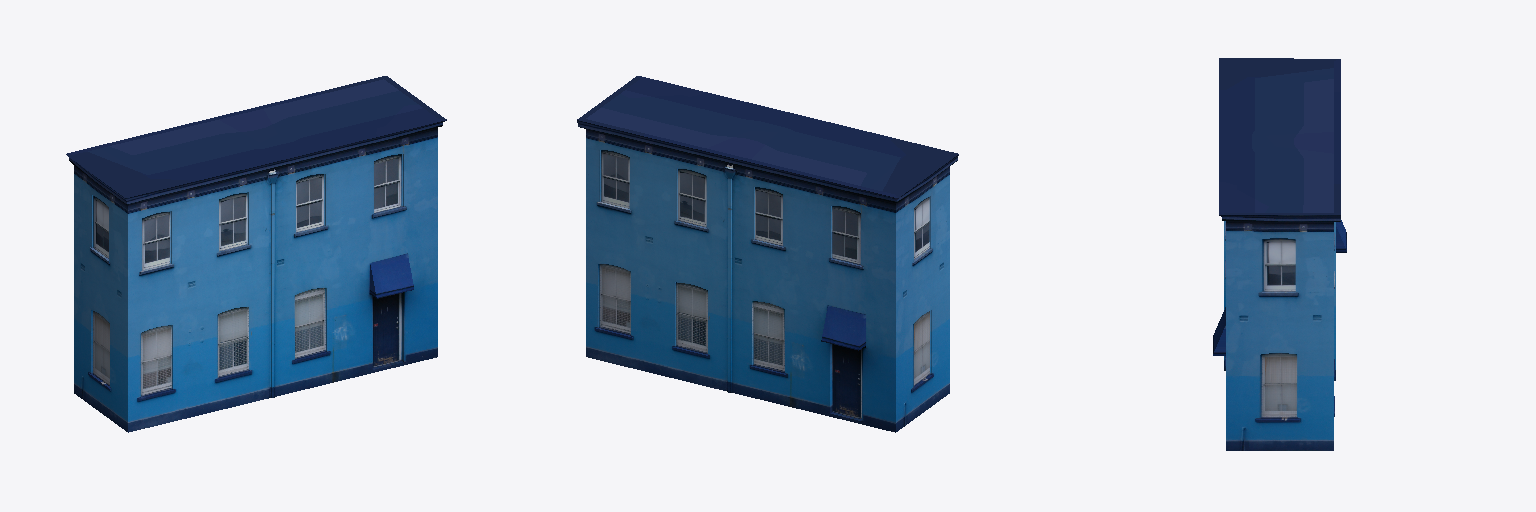
The picture shows the model from 3 angles: view 1: azimuth 30°, elevation 25°; view 2: azimuth 150°, elevation 25°; view 3: azimuth 270°, elevation 25°; orthographic projection.
Visible parts, largest first — view 1: Plane01; view 2: Plane01; view 3: Plane01.
Part boxes in pixels (left/top/right/bottom): Plane01: left=66, top=76, right=446, bottom=432; Plane01: left=577, top=76, right=958, bottom=432; Plane01: left=1213, top=58, right=1346, bottom=450.
Bounding box in the file's own units: 2834 × 2004 × 1026.
Materials: 1 (1 with a texture image).